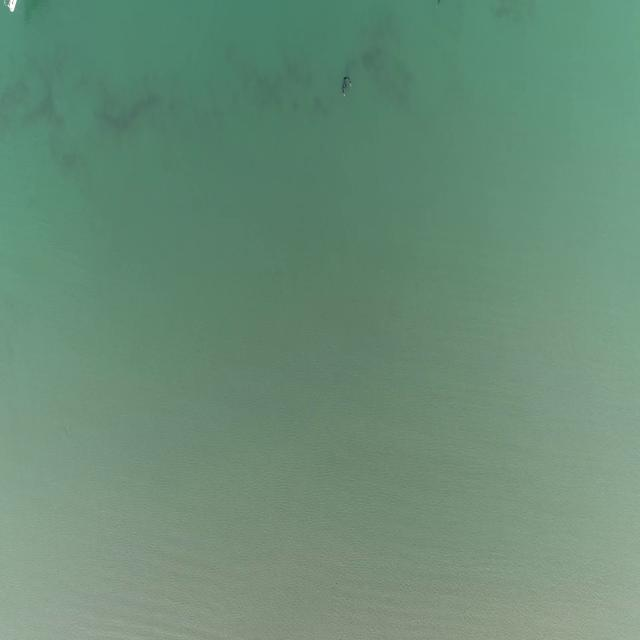person: (341, 75, 354, 97)
